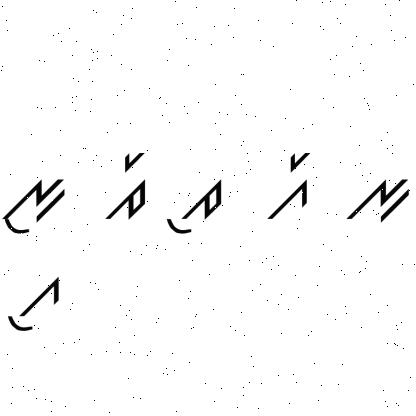ga: (341, 170, 412, 232)
gar: (261, 147, 313, 227)
gaw: (3, 266, 63, 338)
ngaw: (1, 164, 72, 240)
tar: (102, 148, 153, 226)
taw: (165, 175, 225, 243)
